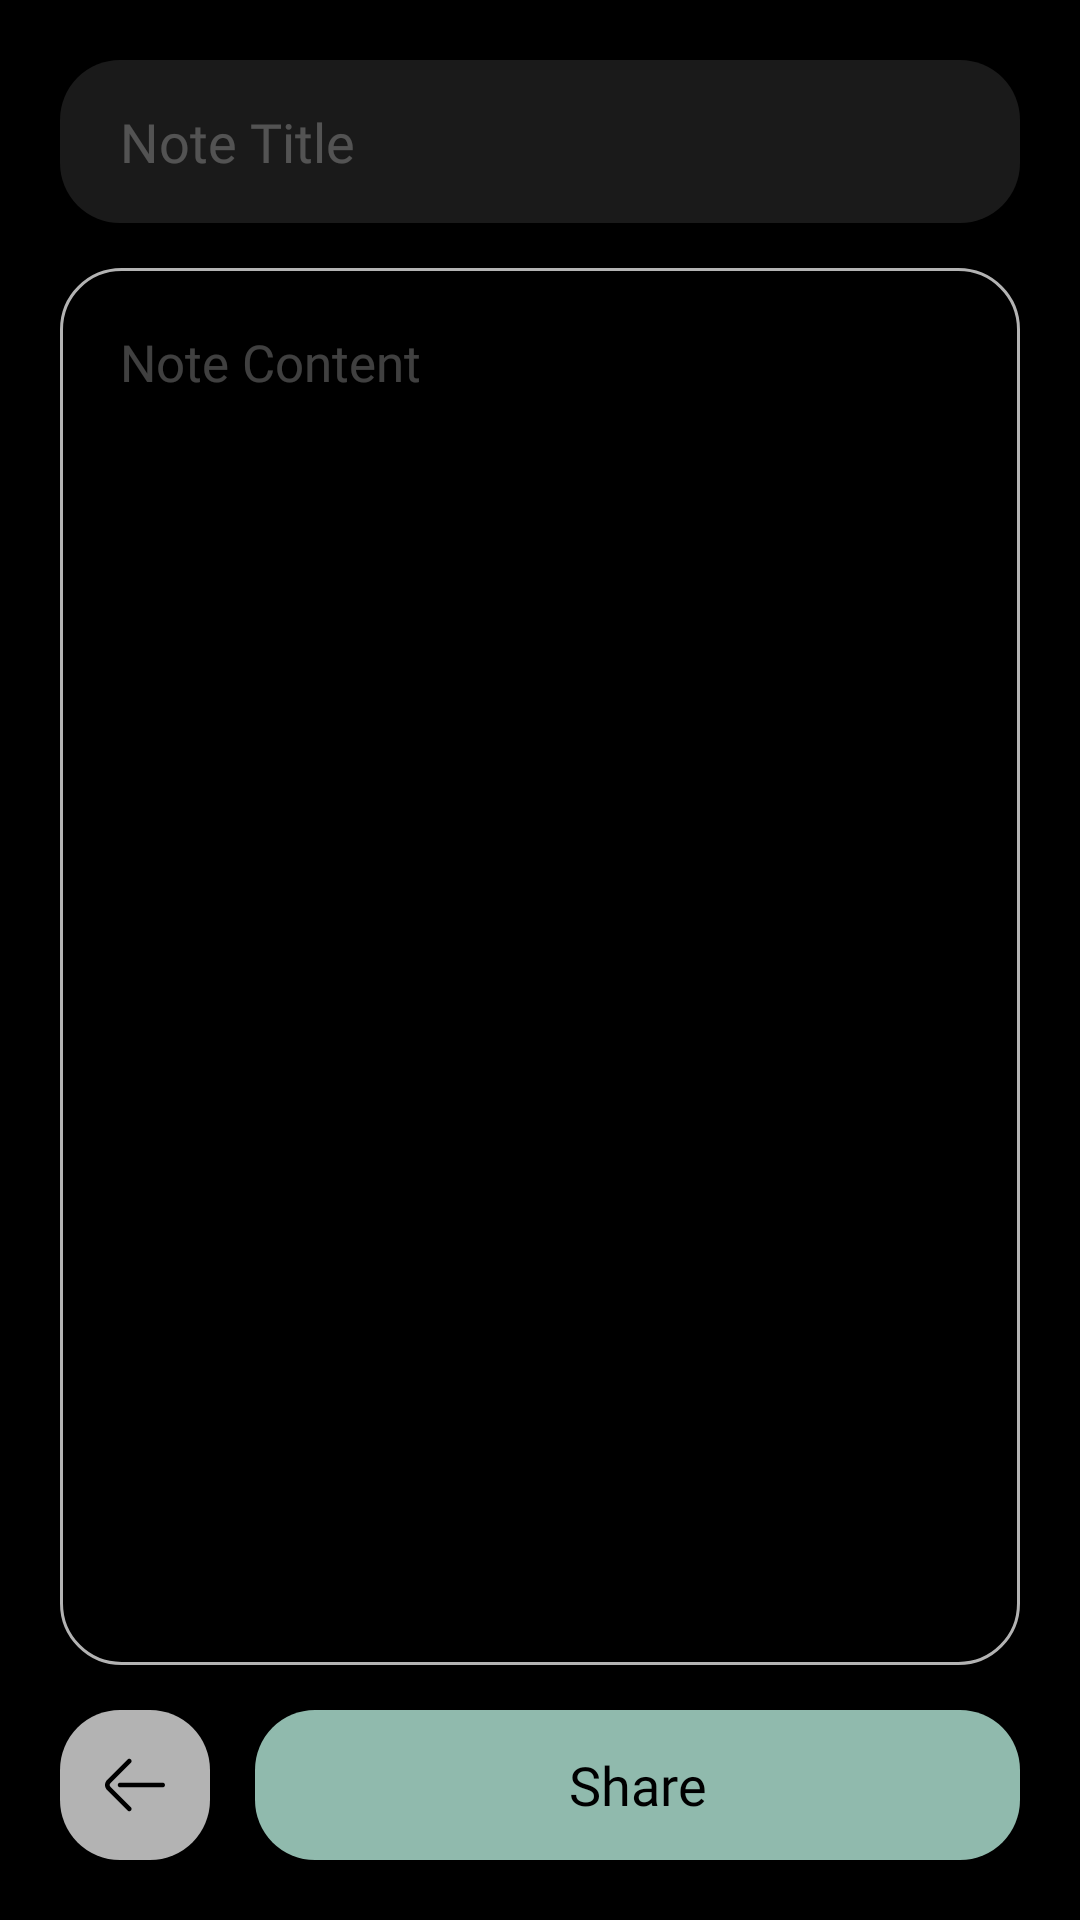

Named icons in this screenshot (1080w x 1920h) and their centers, point (x, y):
back: point (135, 1785)
